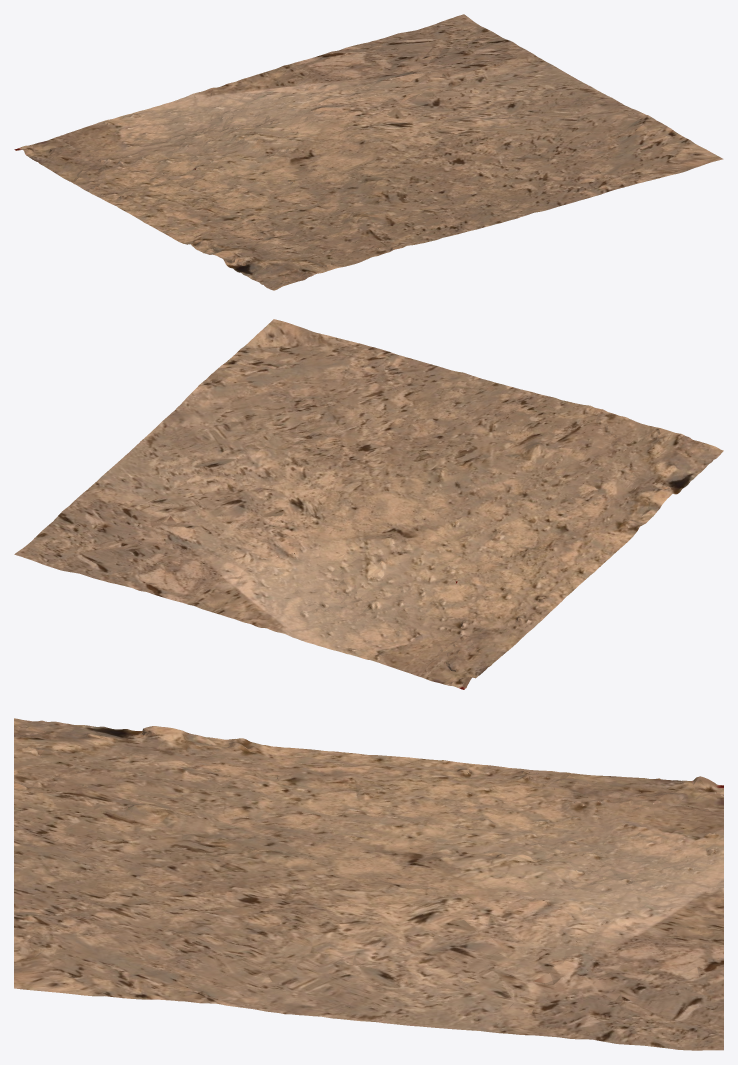
3 views of the same model, one above another, from view 1: azimuth 30°, elevation 25°; view 2: azimuth 150°, elevation 25°; view 3: azimuth 270°, elevation 25° (orthographic). The views are drawn at different scales.
Bounding box in the file's own units: 16.71 × 2.52 × 16.71.
2 materials, 2 textured.
